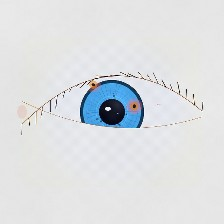foreign_body_visible: (85, 78, 102, 92)
